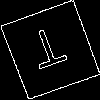T: (25, 25, 72, 79)
